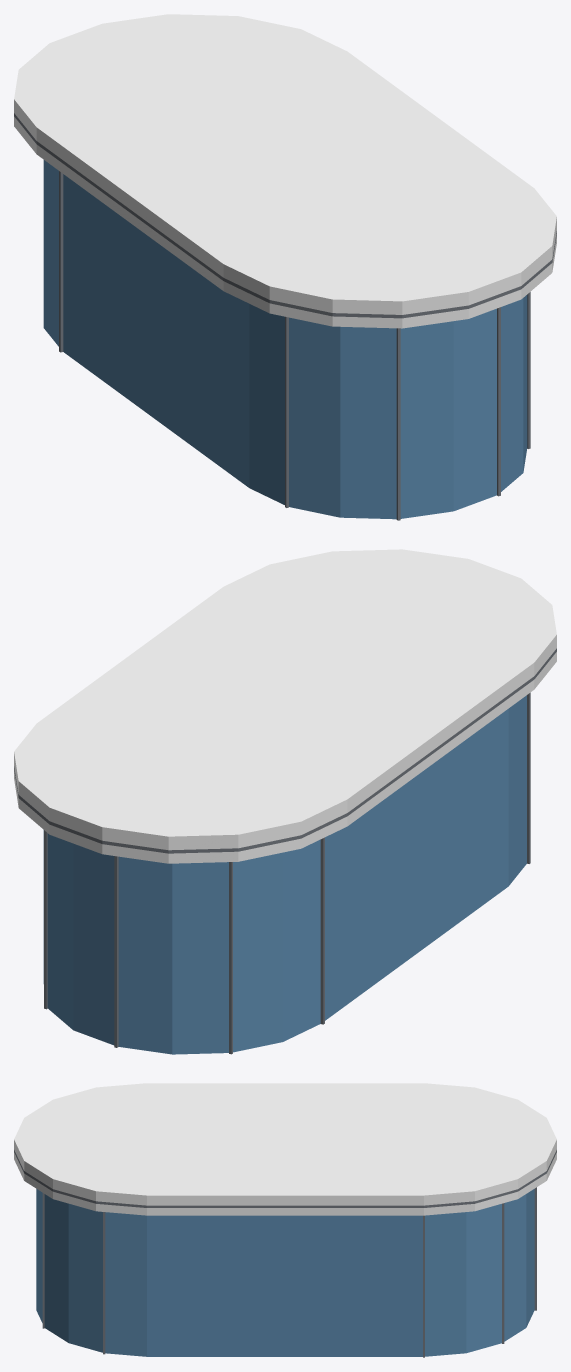
File: roofprop_close.fbx
3 renders of one model, top to bottom at view 1: azimuth 30°, elevation 25°; view 2: azimuth 150°, elevation 25°; view 3: azimuth 270°, elevation 25°, orthographic. The views are drawn at different scales.
Visible parts, largest first — view 1: a2012/800/roofprop_close; view 2: a2012/800/roofprop_close; view 3: a2012/800/roofprop_close.
Boxes of the visible parts, left/top/right/bottom form: a2012/800/roofprop_close: left=14, top=14, right=556, bottom=520; a2012/800/roofprop_close: left=14, top=549, right=556, bottom=1054; a2012/800/roofprop_close: left=14, top=1083, right=556, bottom=1357.
Size of the model in its own units: 4.8 by 3.4 by 9.8.
